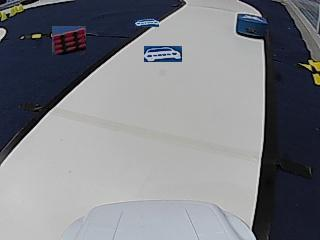prop: (236, 15, 268, 38)
